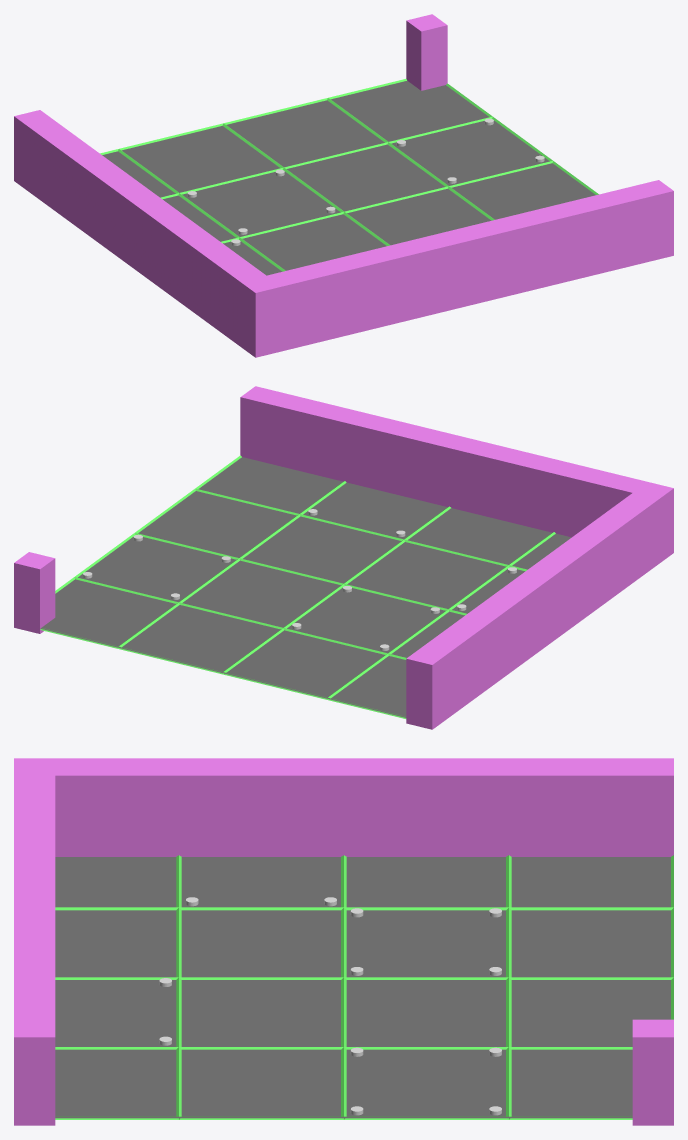
The model's file is L_CELL.fbx.
3 renders of one model, top to bottom at view 1: azimuth 30°, elevation 25°; view 2: azimuth 150°, elevation 25°; view 3: azimuth 270°, elevation 25°, orthographic. The views are drawn at different scales.
Visible parts, largest first — view 1: Cube_LCell, Base_LCell, Rim_LCell, Cylinder_LCell; view 2: Base_LCell, Cube_LCell, Rim_LCell, Cylinder_LCell; view 3: Base_LCell, Cube_LCell, Rim_LCell, Cylinder_LCell.
Boxes of the visible parts, <box> form: Cube_LCell: <box>14,14,673,357</box>; Base_LCell: <box>102,80,595,275</box>; Rim_LCell: <box>100,79,598,271</box>; Cylinder_LCell: <box>187,118,544,245</box>; Base_LCell: <box>40,457,571,717</box>; Cube_LCell: <box>14,386,673,729</box>; Rim_LCell: <box>40,455,555,718</box>; Cylinder_LCell: <box>83,509,516,650</box>; Base_LCell: <box>55,857,670,1118</box>; Cube_LCell: <box>14,758,673,1125</box>; Rim_LCell: <box>55,855,673,1119</box>; Cylinder_LCell: <box>159,897,501,1115</box>.
Size of the model in its own units: 1 by 0.148 by 1.
